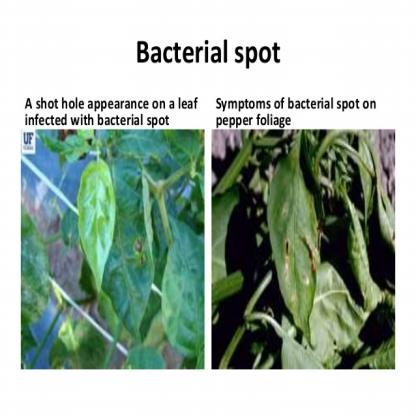Bell_pepper leaf spot: (264, 147, 321, 345), (103, 178, 156, 338)
